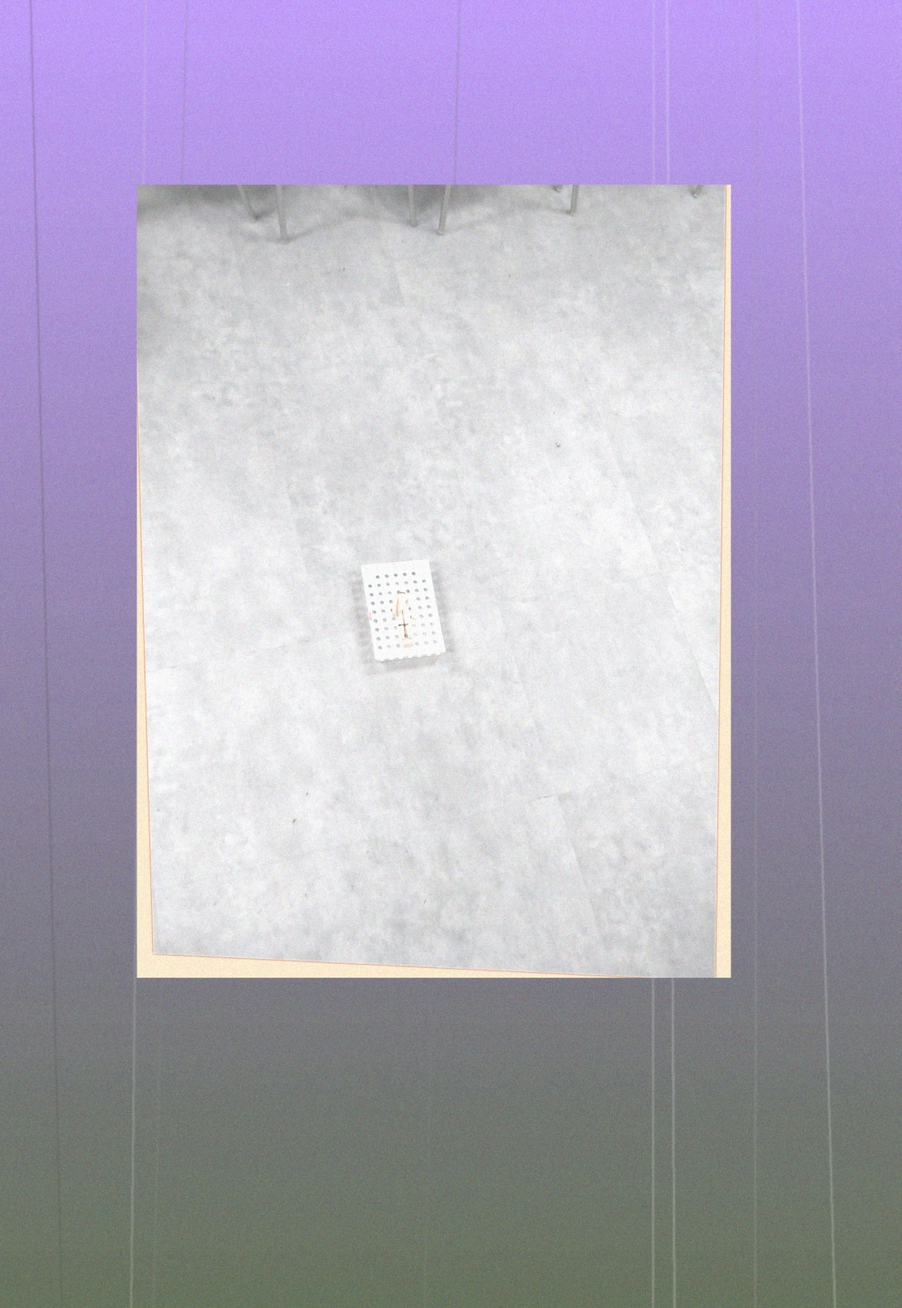basket: (359, 557, 449, 664)
mannequin: (391, 581, 418, 650)
